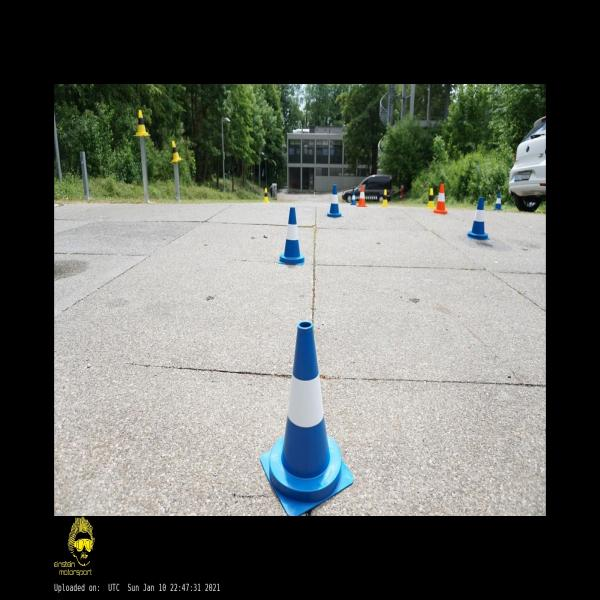blue_cone: (260, 321, 354, 515), (279, 206, 304, 264), (466, 196, 489, 241), (327, 185, 342, 218), (493, 194, 502, 210), (350, 190, 357, 205)
orange_cone: (434, 182, 449, 214), (356, 184, 367, 207)
yellow_cone: (134, 109, 150, 136), (170, 140, 183, 162), (426, 187, 435, 208), (381, 189, 389, 207), (262, 187, 269, 202)
